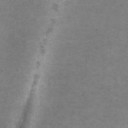finishing roll printing: (18, 74, 40, 128), (46, 18, 56, 35), (40, 38, 48, 54), (52, 3, 58, 12), (36, 62, 40, 68)
